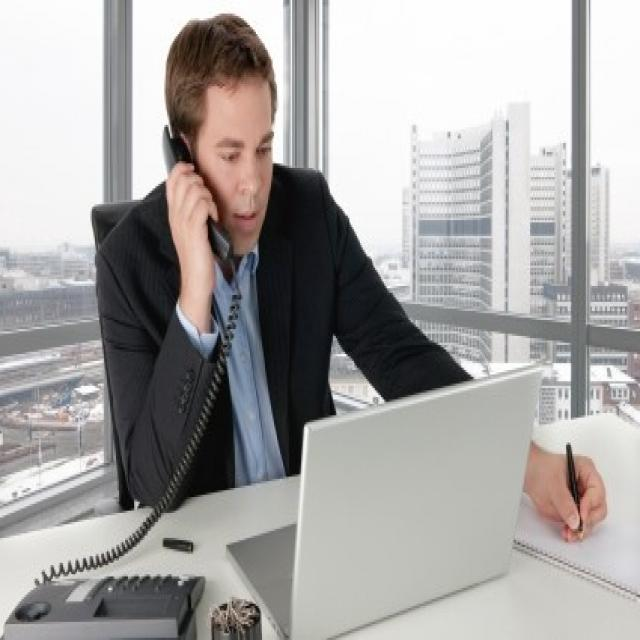phone: (149, 104, 250, 268)
